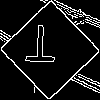T: (25, 25, 56, 71)
